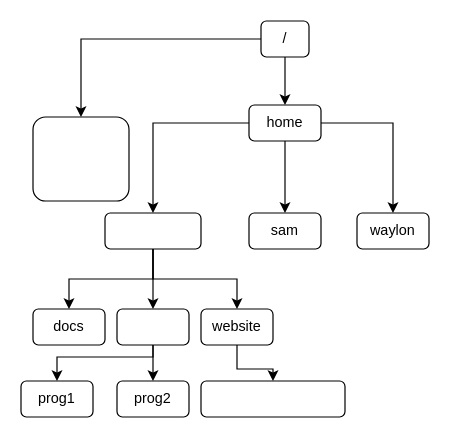
Some shapes in this 450 by 438 pixel diagram are drawn without their labels. Each missing label, with the centre of its shape:
bin (where programs live): [80,158]
hhummel: [152,230]
learning-resources: [272,398]
programs: [152,326]
